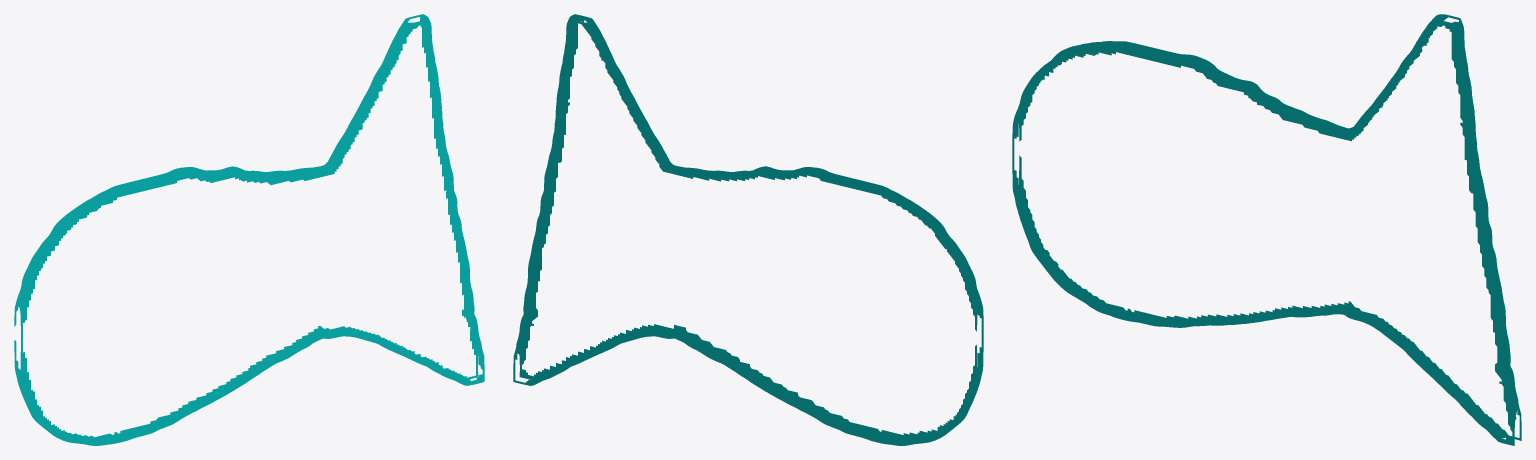
File: p_mesh_c_fish_test.obj
3 renders of one model, left to right at view 1: azimuth 30°, elevation 25°; view 2: azimuth 150°, elevation 25°; view 3: azimuth 330°, elevation 25°, orthographic. The views are drawn at different scales.
Size of the model in its own units: 400 by 311 by 10.
